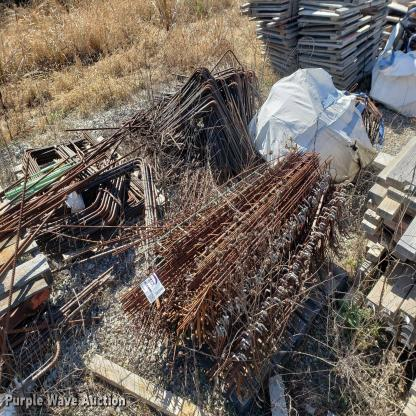rebar: (1, 57, 354, 394)
